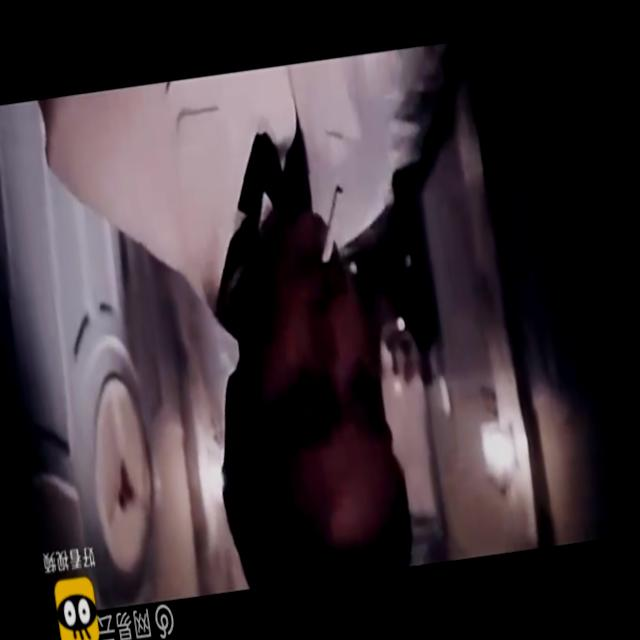smoke: (311, 182, 354, 264)
